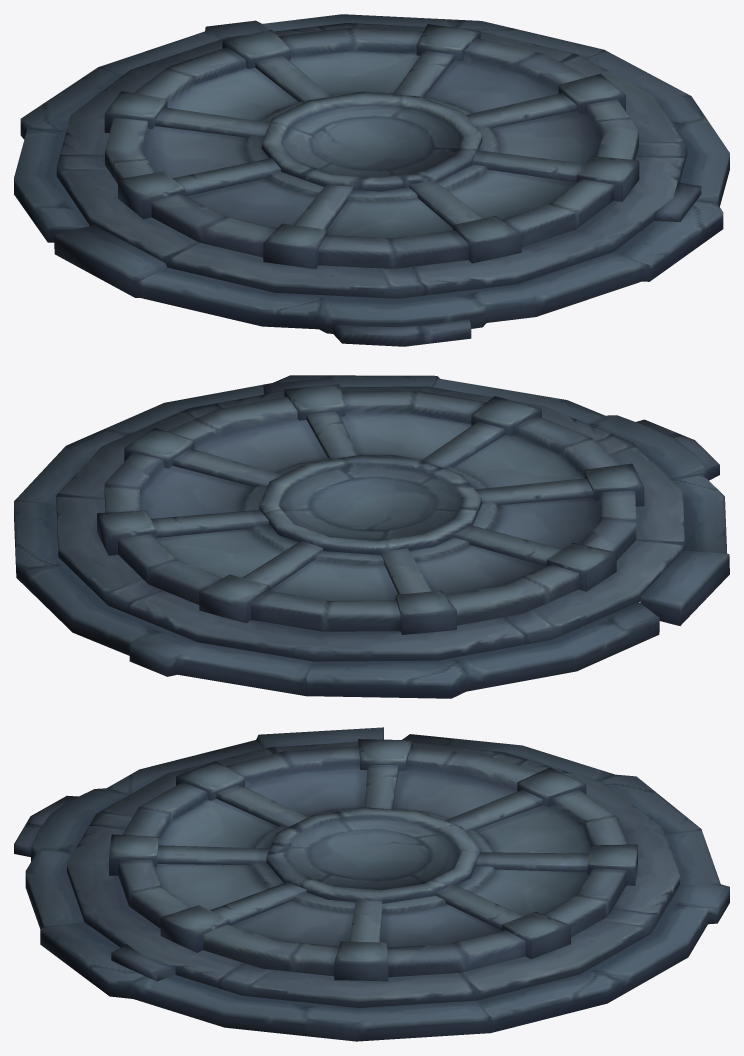
The model's file is Area_13_8.fbx.
3 views of the same model, one above another, from view 1: azimuth 30°, elevation 25°; view 2: azimuth 150°, elevation 25°; view 3: azimuth 270°, elevation 25° (orthographic). The views are drawn at different scales.
Visible parts, largest first — view 1: Area_13_8; view 2: Area_13_8; view 3: Area_13_8.
Boxes of the visible parts, x1,y1,x2,y2 form: Area_13_8: (14, 14, 729, 346); Area_13_8: (14, 375, 729, 698); Area_13_8: (14, 727, 729, 1041).
Size of the model in its own units: 670 by 46.22 by 687.
